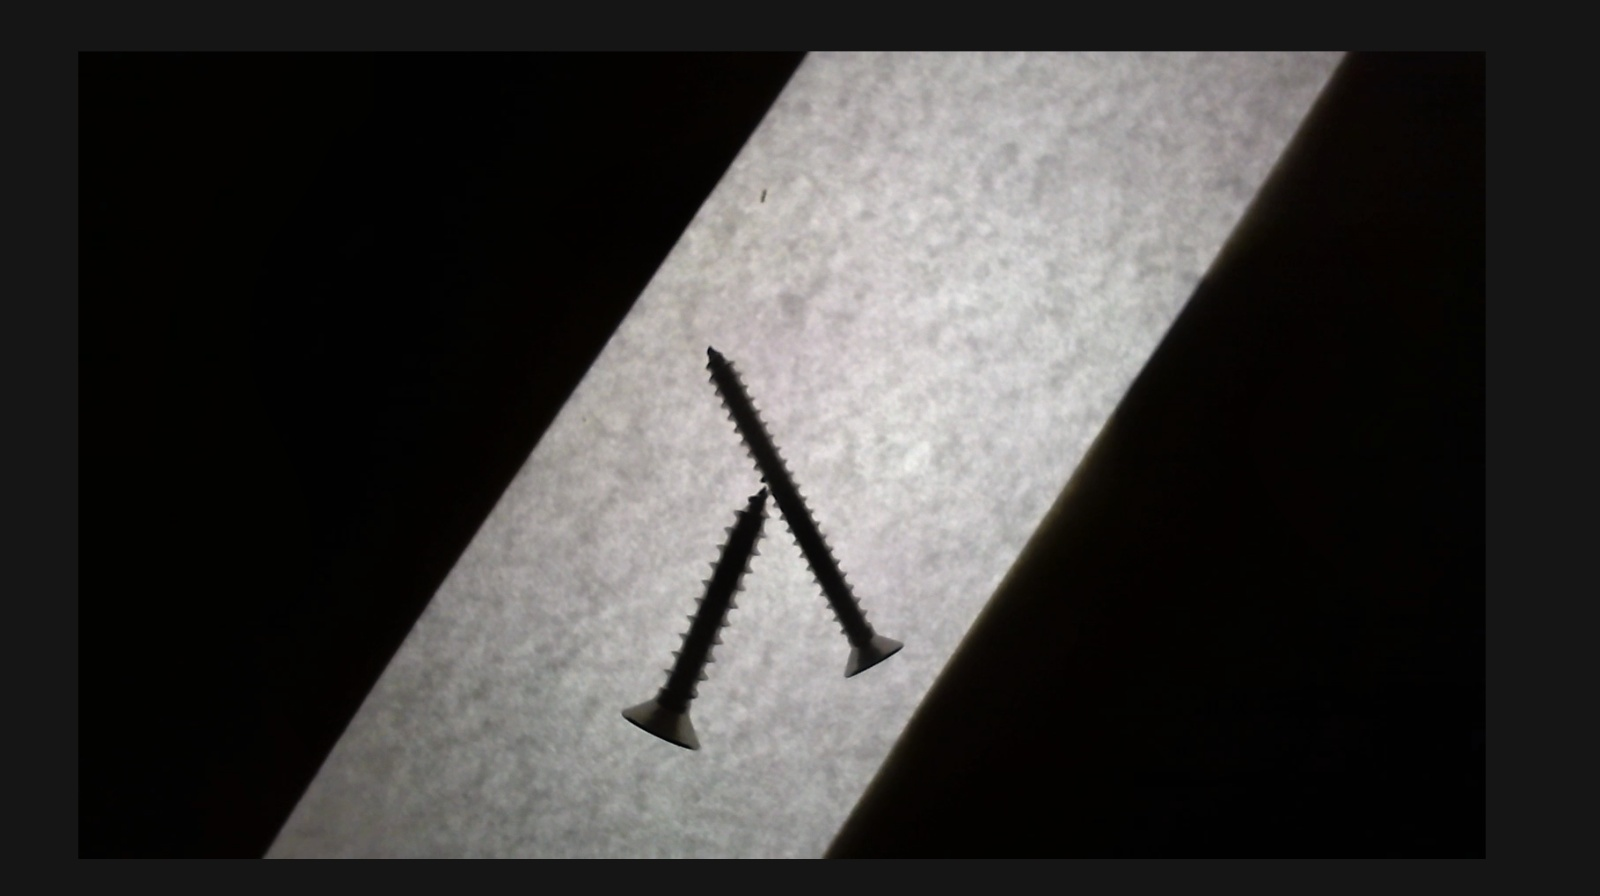S001: (610, 482, 765, 756)
S002: (701, 340, 904, 678)
